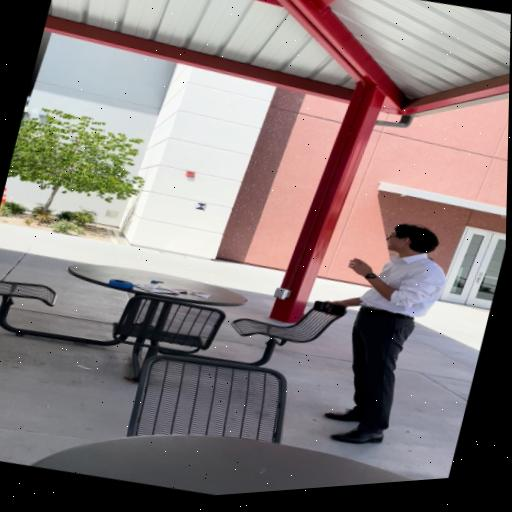target2: (195, 202, 208, 212)
